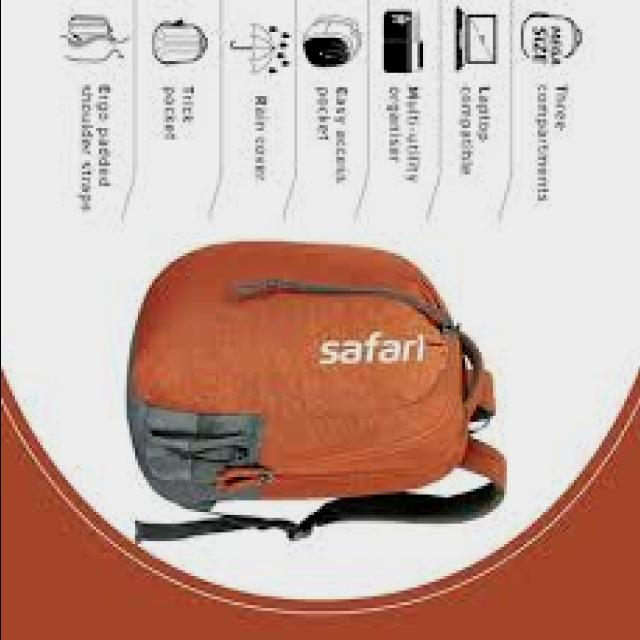backpack: (127, 240, 510, 542)
